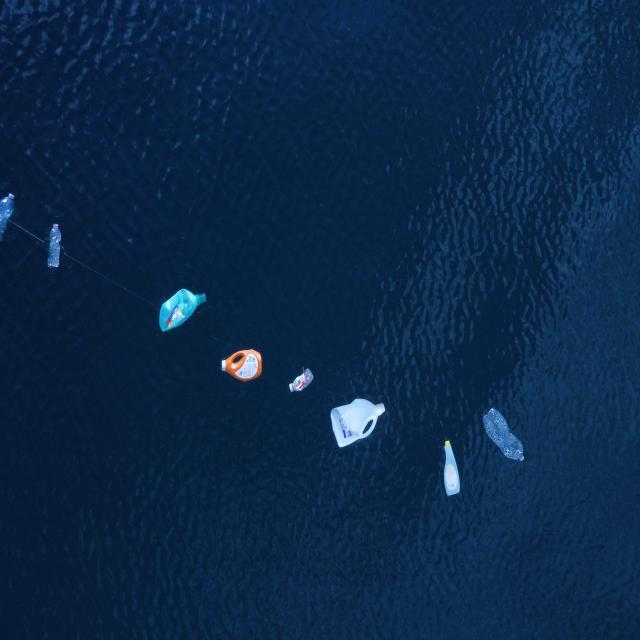bottles: (326, 394, 386, 450), (480, 404, 528, 468), (156, 285, 210, 339), (217, 347, 266, 385), (438, 436, 462, 503), (45, 217, 64, 274), (0, 189, 17, 250), (286, 366, 316, 398)
